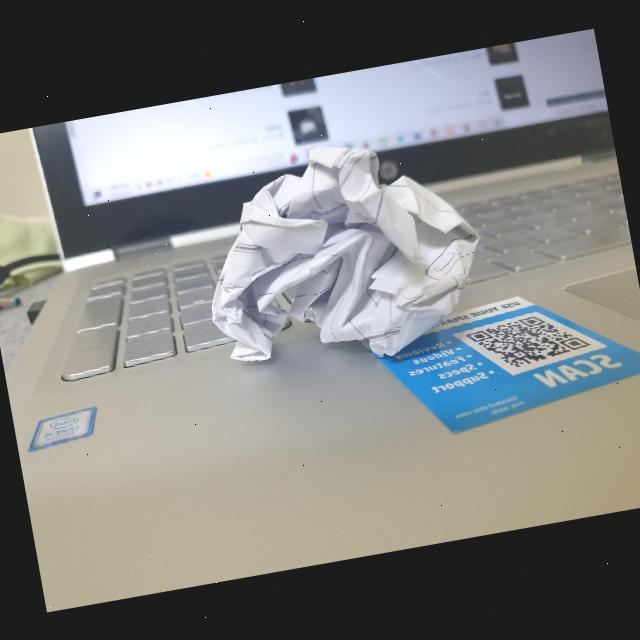trash: (180, 118, 499, 410)
